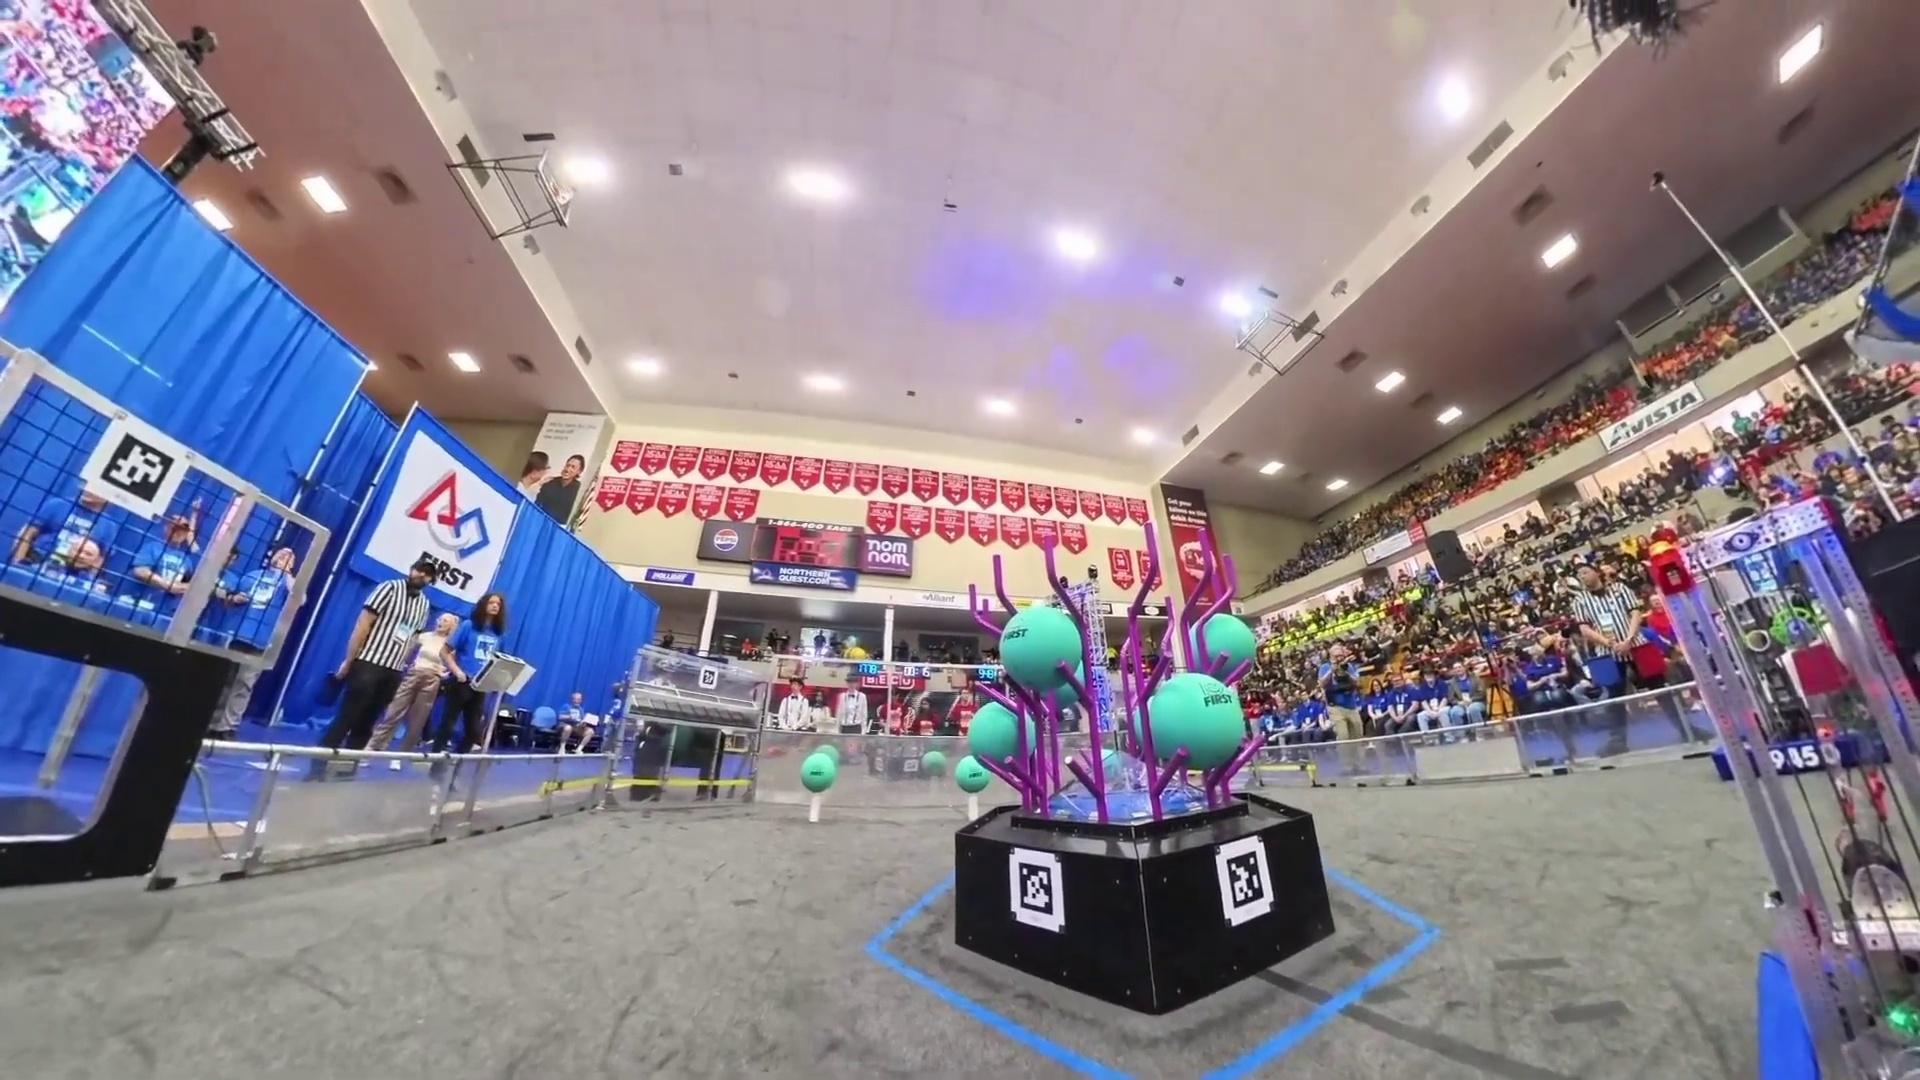robot: (1644, 495, 1920, 1080), (1706, 568, 1917, 781)
